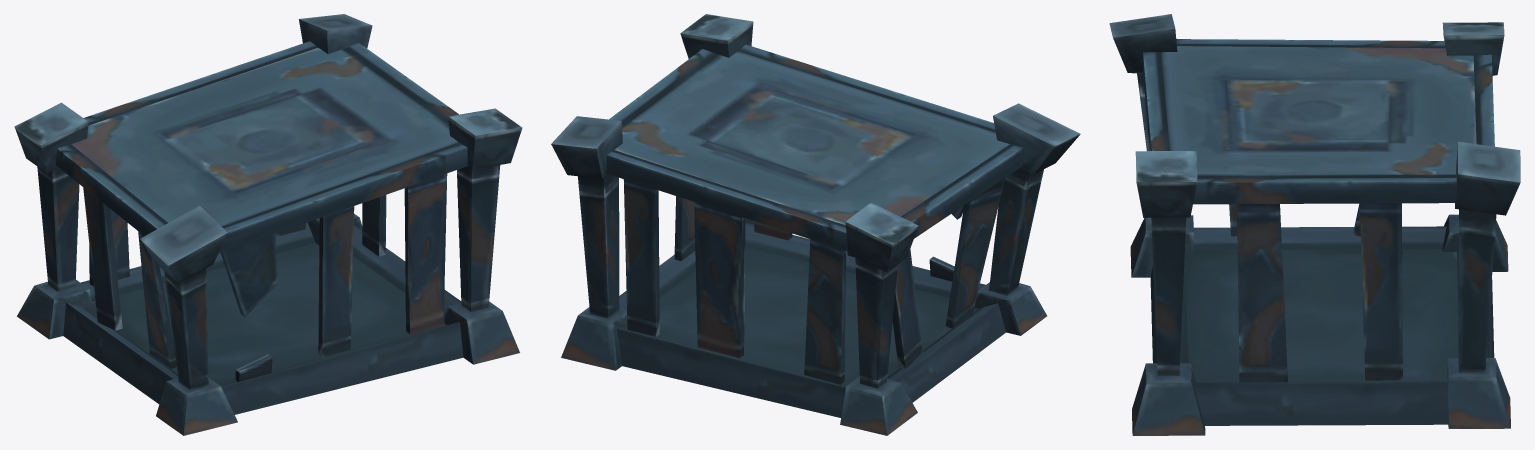
The model's file is jfdx_xiangzi_02.FBX.
The picture shows the model from 3 angles, left to right: view 1: azimuth 30°, elevation 25°; view 2: azimuth 150°, elevation 25°; view 3: azimuth 270°, elevation 25°; orthographic projection. The views are drawn at different scales.
Visible parts, largest first — view 1: jfdx_xiangzi_02; view 2: jfdx_xiangzi_02; view 3: jfdx_xiangzi_02.
Boxes of the visible parts, x1,y1,x2,y2 form: jfdx_xiangzi_02: (14, 14, 522, 435); jfdx_xiangzi_02: (551, 14, 1080, 435); jfdx_xiangzi_02: (1109, 14, 1520, 435).
Size of the model in its own units: 159 by 95.82 by 134.
